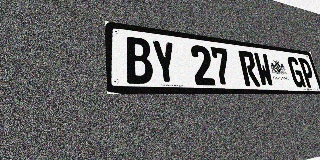2: (190, 44, 215, 85)
7: (209, 47, 234, 86)
B: (124, 36, 154, 84)
G: (286, 56, 306, 87)
P: (298, 58, 317, 88)
R: (238, 50, 260, 86)
W: (253, 52, 275, 87)
Y: (150, 39, 179, 85)
